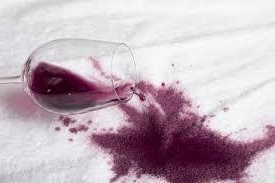wine: (110, 128, 261, 183), (94, 82, 197, 156)
